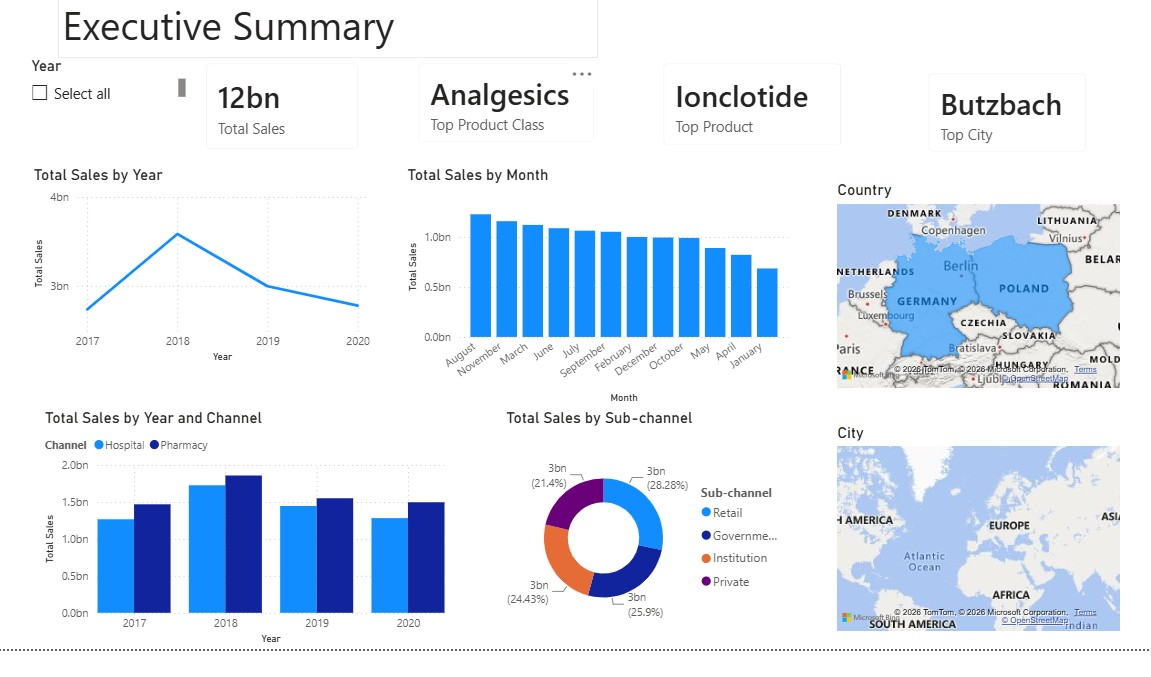

The dashboard page shown, as its layout file describes it:
{"tool":"powerbi","page":{"name":"Page 1","canvas":[1280,720],"ordinal":0},"visuals":[{"type":"cardVisual","fields":{"Data":["Fact_Sales.Total Sales"]},"box":[216.8,60.4,201.7,129],"z":0},{"type":"clusteredColumnChart","fields":{"Category":["Dim_Date.Year"],"Y":["Fact_Sales.Total Sales"],"Series":["Dim_Channel.Channel"]},"box":[52.1,455.6,448.7,264.8],"z":1000},{"type":"listSlicer","fields":{"Values":["Dim_Date.Year"]},"box":[37,70,179.8,109.8],"z":2000},{"type":"clusteredColumnChart","fields":{"Category":["Dim_Date.Month"],"Y":["Fact_Sales.Total Sales"]},"box":[450.1,189.4,428.1,266.2],"z":3000},{"type":"cardVisual","fields":{"Data":["Fact_Sales.Top Product Class"]},"box":[436.4,50.8,227.8,120.8],"z":4000},{"type":"cardVisual","fields":{"Data":["Fact_Sales.Top Product"]},"box":[693,46.7,229.2,124.9],"z":5000},{"type":"cardVisual","fields":{"Data":["Fact_Sales.Top City"]},"box":[1000.3,50.8,207.2,120.8],"z":6000},{"type":"lineChart","fields":{"Category":["Dim_Date.Year"],"Y":["Fact_Sales.Total Sales"]},"box":[39.8,189.4,378.7,220.9],"z":7000},{"type":"filledMap","fields":{"Category":["Dim_customer.Country"]},"box":[922.1,205.8,319.7,233.3],"z":8000},{"type":"donutChart","fields":{"Category":["Dim_Channel.Sub-channel"],"Y":["Fact_Sales.Total Sales"]},"box":[558.5,455.6,319.7,264.8],"z":9000},{"type":"filledMap","fields":{"Category":["Dim_customer.City"]},"box":[922.1,472,319.7,233.3],"z":10000},{"type":"textbox","box":[71.4,0,592.8,71.4],"z":11000}]}

Visuals, with their boxes on the page's 1280x720 design canvas (x1, y1, x2, y2). These are canvas units, not pixel positions in the 1151x677 screenshot, which may show the page scaled, cropped or inside an application window:
cardVisual - Fact_Sales.Total Sales: (217,60,418,189)
clusteredColumnChart - Dim_Date.Year x Fact_Sales.Total Sales: (52,456,501,720)
listSlicer - Dim_Date.Year: (37,70,217,180)
clusteredColumnChart - Dim_Date.Month x Fact_Sales.Total Sales: (450,189,878,456)
cardVisual - Fact_Sales.Top Product Class: (436,51,664,172)
cardVisual - Fact_Sales.Top Product: (693,47,922,172)
cardVisual - Fact_Sales.Top City: (1000,51,1208,172)
lineChart - Dim_Date.Year x Fact_Sales.Total Sales: (40,189,418,410)
filledMap - Dim_customer.Country: (922,206,1242,439)
donutChart - Dim_Channel.Sub-channel x Fact_Sales.Total Sales: (558,456,878,720)
filledMap - Dim_customer.City: (922,472,1242,705)
textbox: (71,0,664,71)
